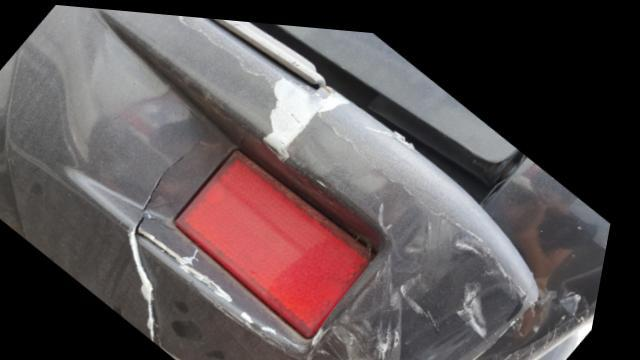crack: (139, 128, 213, 344)
dislocated part: (0, 4, 550, 360)
rub: (181, 216, 529, 360)
